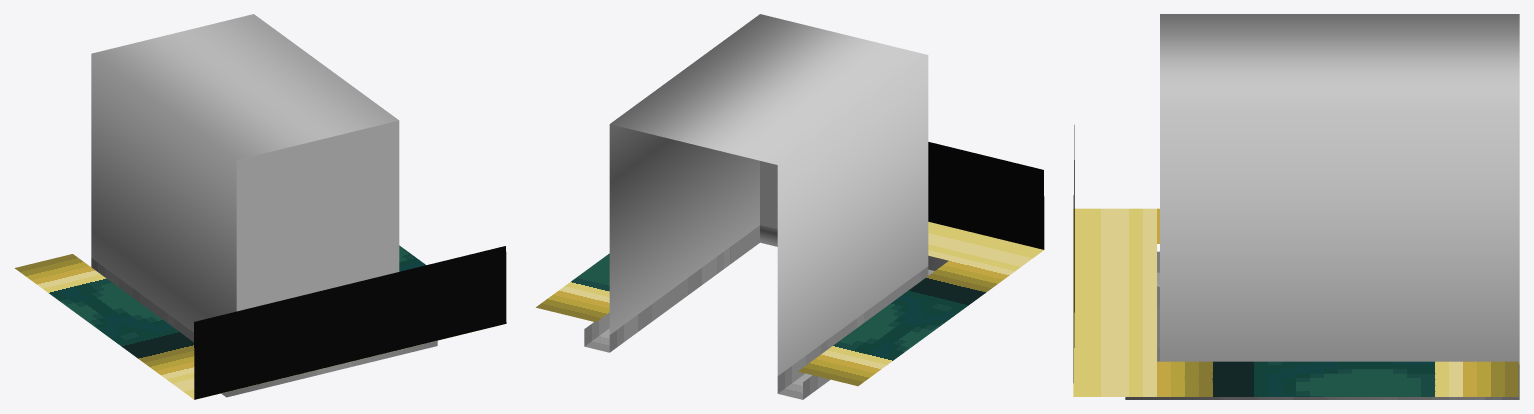
File: Wall&Door3.obj
The picture shows the model from 3 angles, left to right: view 1: azimuth 30°, elevation 25°; view 2: azimuth 150°, elevation 25°; view 3: azimuth 270°, elevation 25°; orthographic projection. The views are drawn at different scales.
Visible parts, largest first — view 1: map; view 2: map; view 3: map.
Part boxes in pixels (<box>): map: <box>14,14,506,399</box>; map: <box>536,14,1044,399</box>; map: <box>1073,14,1519,399</box>.
Bounding box in the file's own units: 3 × 2.03 × 3.01.
